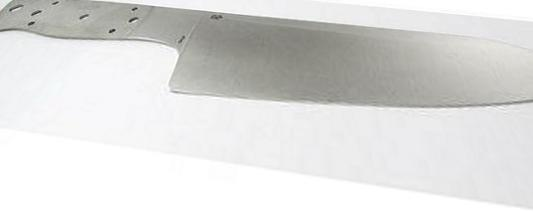knife: (1, 2, 533, 106)
